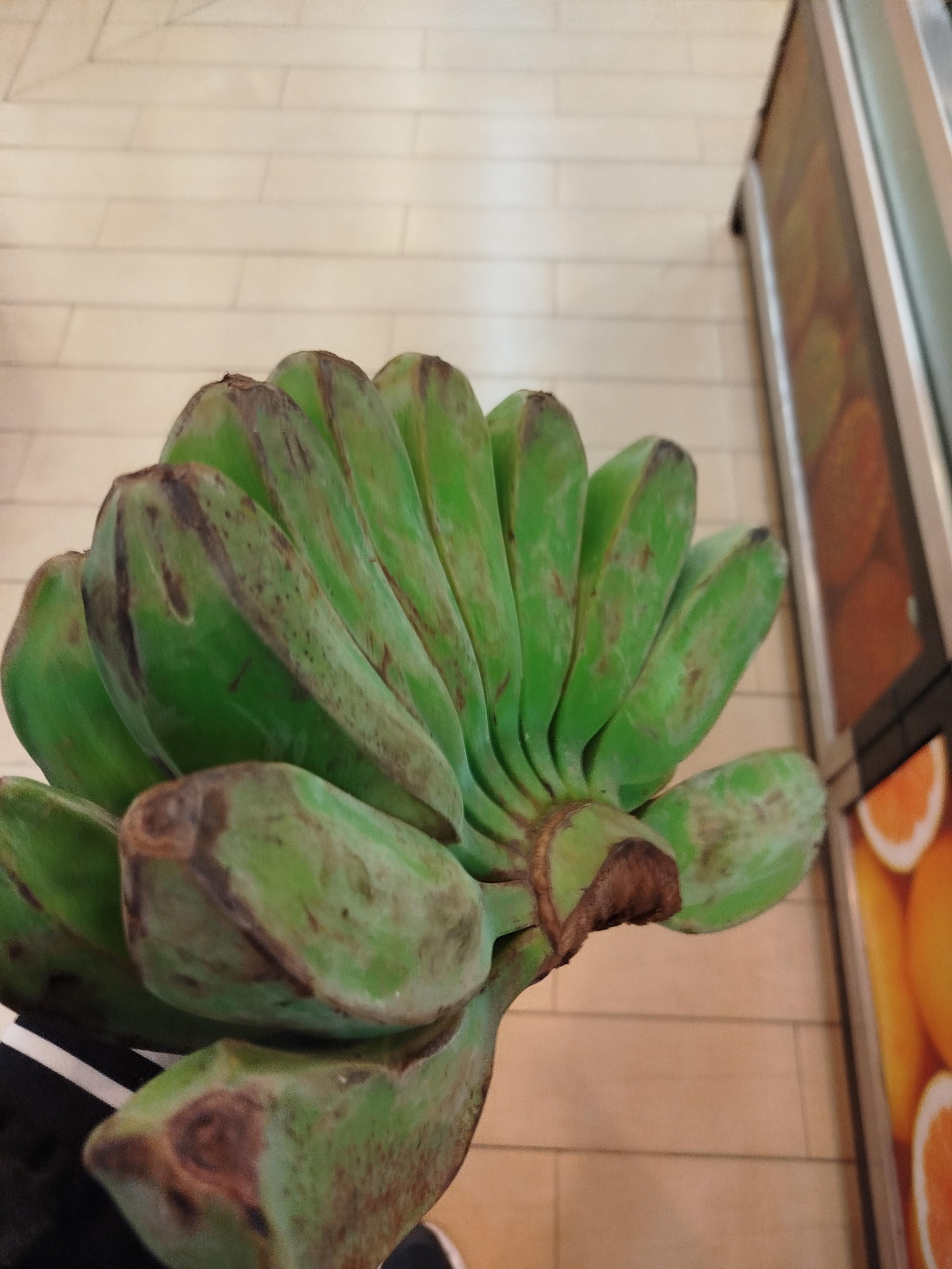underripe: (0, 353, 823, 1269)
